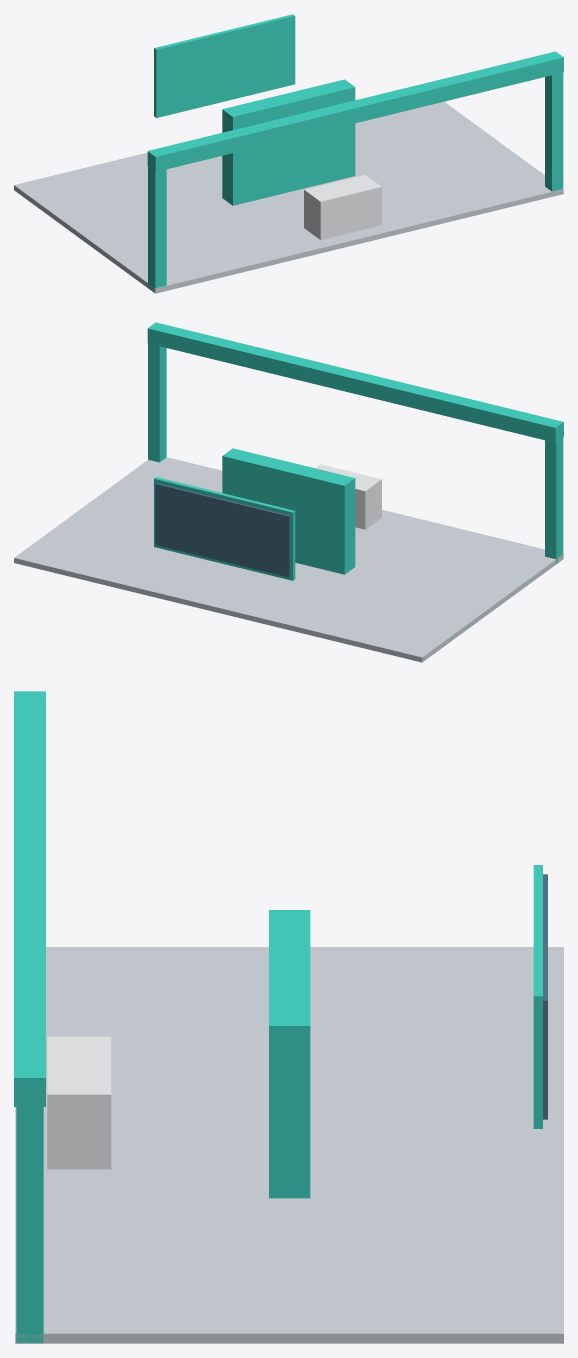
3 views of the same model, one above another, from view 1: azimuth 30°, elevation 25°; view 2: azimuth 150°, elevation 25°; view 3: azimuth 270°, elevation 25° (orthographic). The views are drawn at different scales.
Visible parts, largest first — view 1: Exhibition Booth Concept; view 2: Exhibition Booth Concept; view 3: Exhibition Booth Concept.
Part boxes in pixels (bbox=[...]): Exhibition Booth Concept: bbox=[14, 14, 563, 293]; Exhibition Booth Concept: bbox=[14, 322, 563, 662]; Exhibition Booth Concept: bbox=[14, 691, 563, 1343].
Size of the model in its own units: 10 by 3.2 by 6.02.
